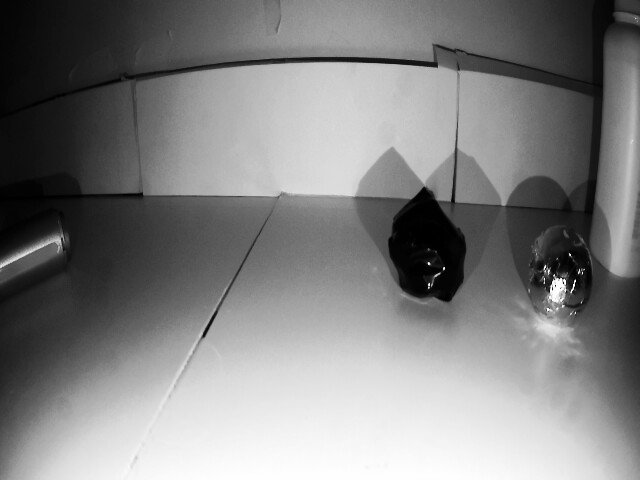black: (525, 214, 598, 330)
silver: (383, 194, 474, 304)
